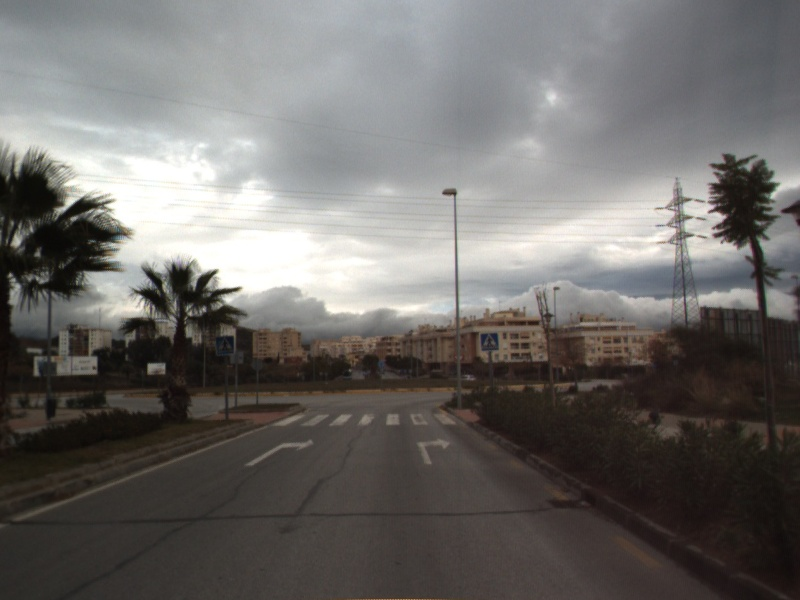RIGHT: (243, 437, 316, 468), (415, 435, 453, 466)
